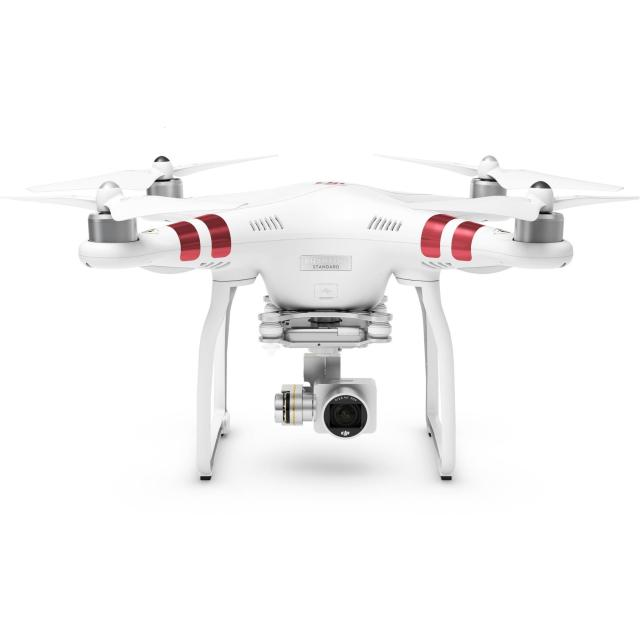drone: (28, 112, 636, 351)
